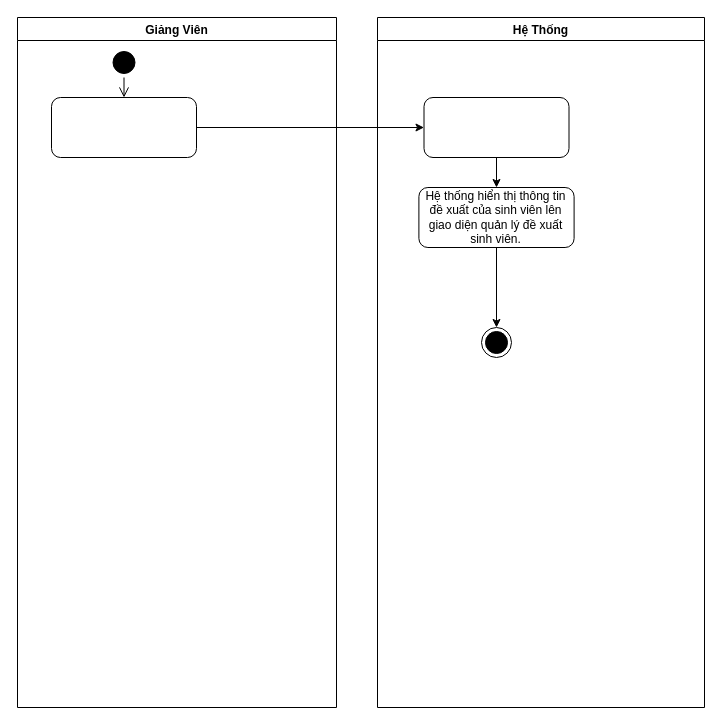
Some shapes in this 722 by 725 pixel diagram are drawn without their labels. The shapes that lost their labels are listed below. From the top down, each one's centre as x and y in pixels, then its label:
point (123, 127): Giảng viên chọn chức năng quản lý đề xuất sinh viên
point (496, 127): Hệ thống lấy thông tin về các đề xuất của sinh viên trên cơ sở dữ liệu
